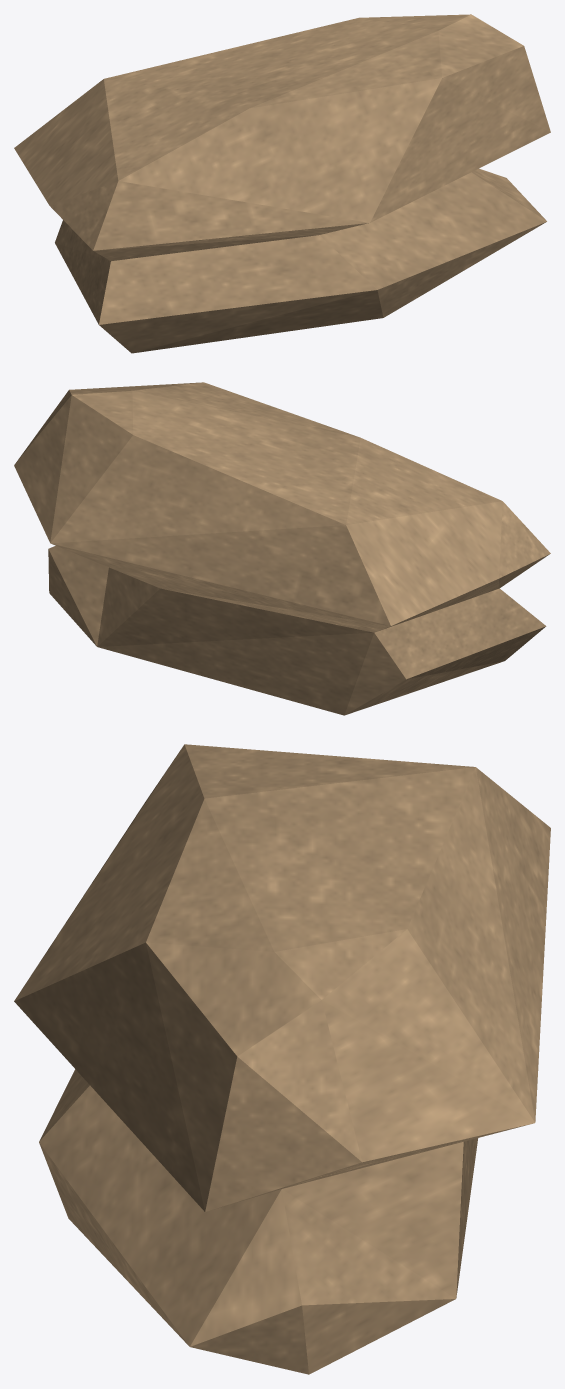
Rendered from boulder_wind_sculpted.glb.
3 renders of one model, top to bottom at view 1: azimuth 30°, elevation 25°; view 2: azimuth 150°, elevation 25°; view 3: azimuth 270°, elevation 25°, orthographic. The views are drawn at different scales.
Parts seen in each view (by area): view 1: boulder_wind_sculpted; view 2: boulder_wind_sculpted; view 3: boulder_wind_sculpted.
Part boxes in pixels (x1,y1,x2,y2): boulder_wind_sculpted: (14, 14, 550, 353); boulder_wind_sculpted: (14, 382, 550, 715); boulder_wind_sculpted: (14, 744, 550, 1374).
Size of the model in its own units: 2.84 by 1.22 by 1.64.
1 material, 1 textured.
